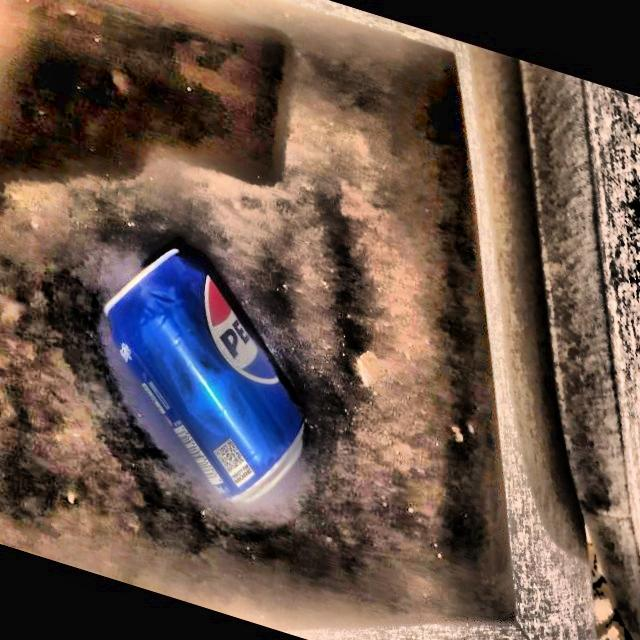pepsi-can: (105, 248, 308, 504)
